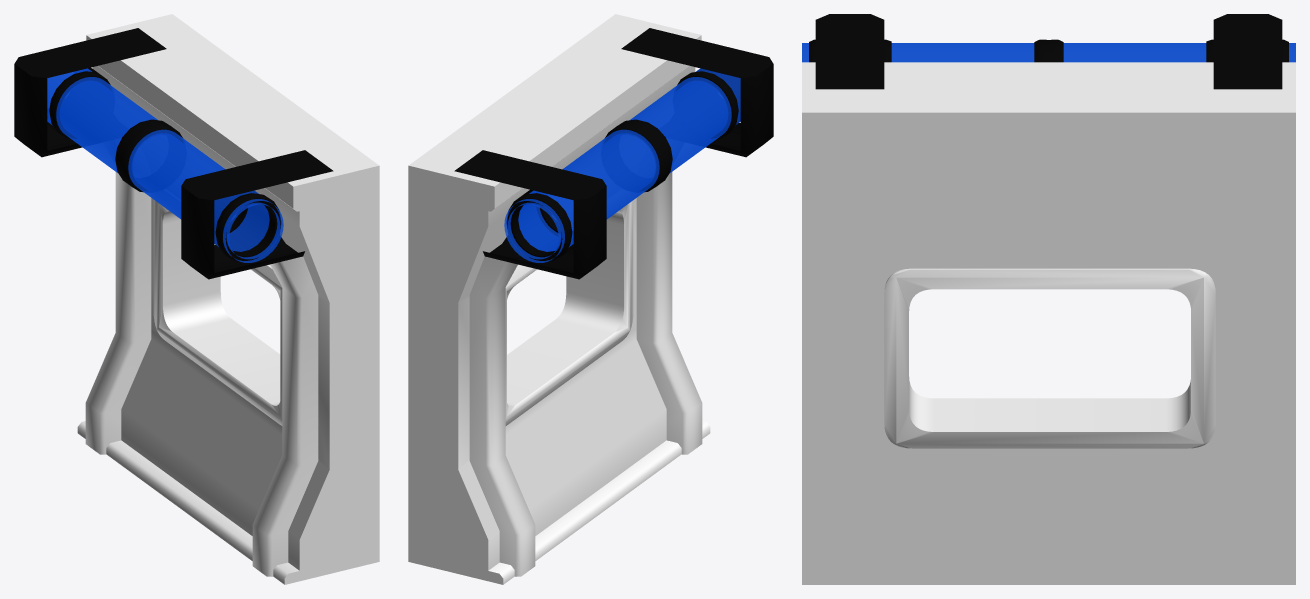
The model's file is Window1.fbx.
3 renders of one model, left to right at view 1: azimuth 30°, elevation 25°; view 2: azimuth 150°, elevation 25°; view 3: azimuth 270°, elevation 25°, orthographic. The views are drawn at different scales.
Parts seen in each view (by area): view 1: Window; view 2: Window; view 3: Window.
Boxes of the visible parts, x1,y1,x2,y2 form: Window: (14, 14, 379, 584); Window: (408, 14, 773, 584); Window: (802, 14, 1295, 584).
Size of the model in its own units: 1.74 by 3.8 by 3.6.
